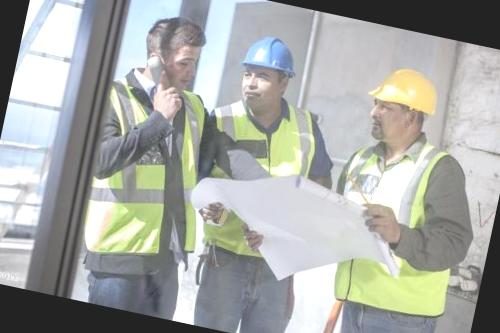no_helmet: (134, 6, 214, 99)
